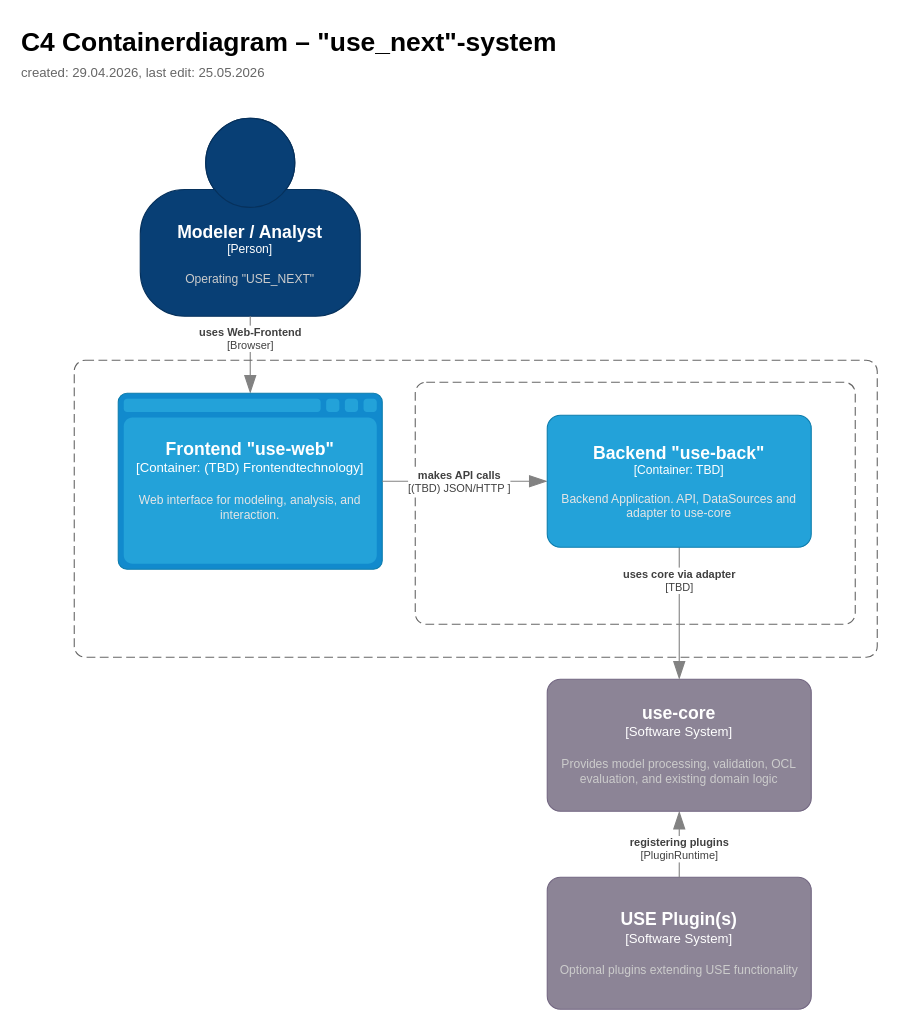
Image size: 897x1029. Some labels were removed from this diagram. Each missing label, with the box of its shape:
USE_BACK [Software System]: (414, 381, 855, 624)
USE_NEXT [Software System]: (73, 359, 877, 657)
